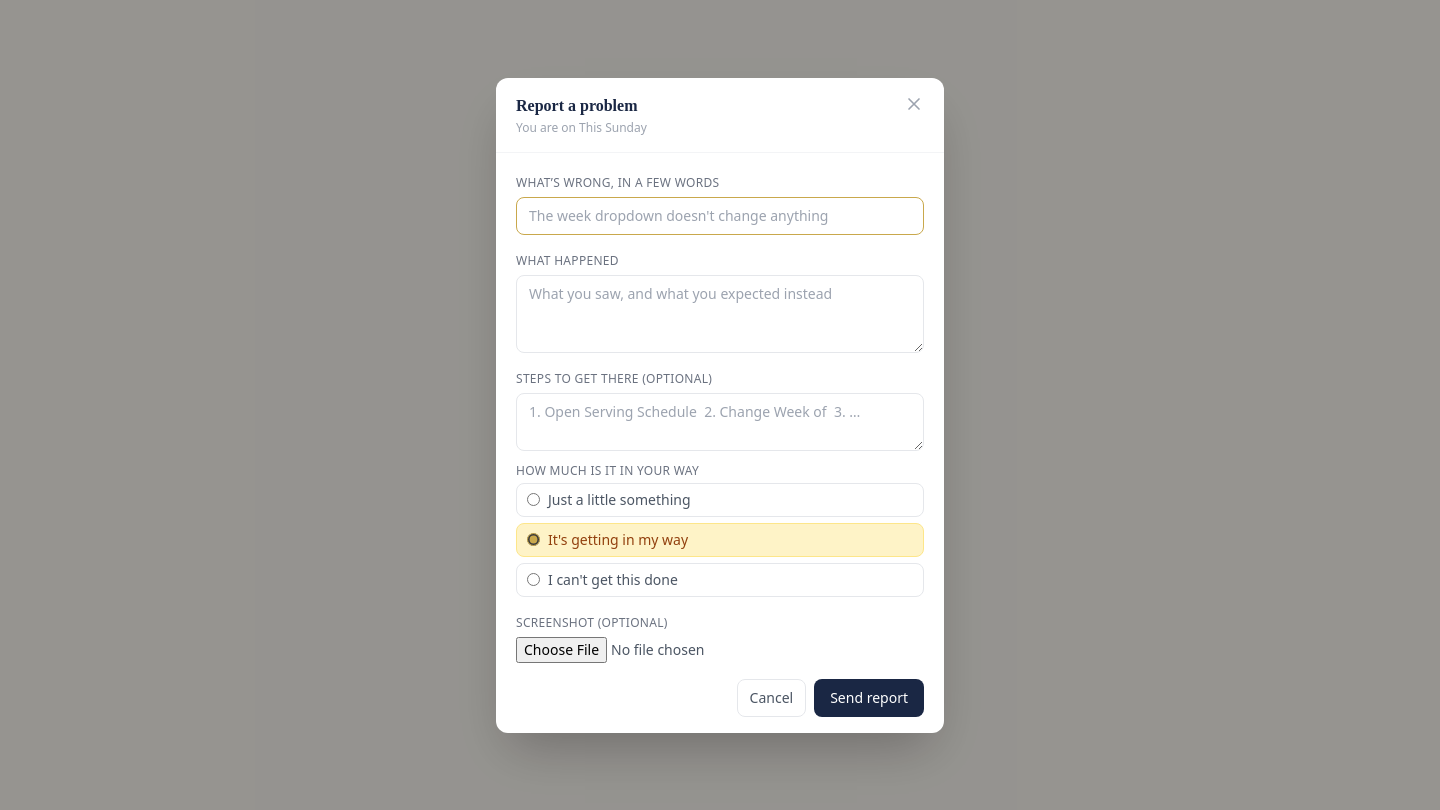
BugReportDialog › a title and a description are required before it will send
Click the button "Send report".
click(869, 698)  # box [814,678,924,716]
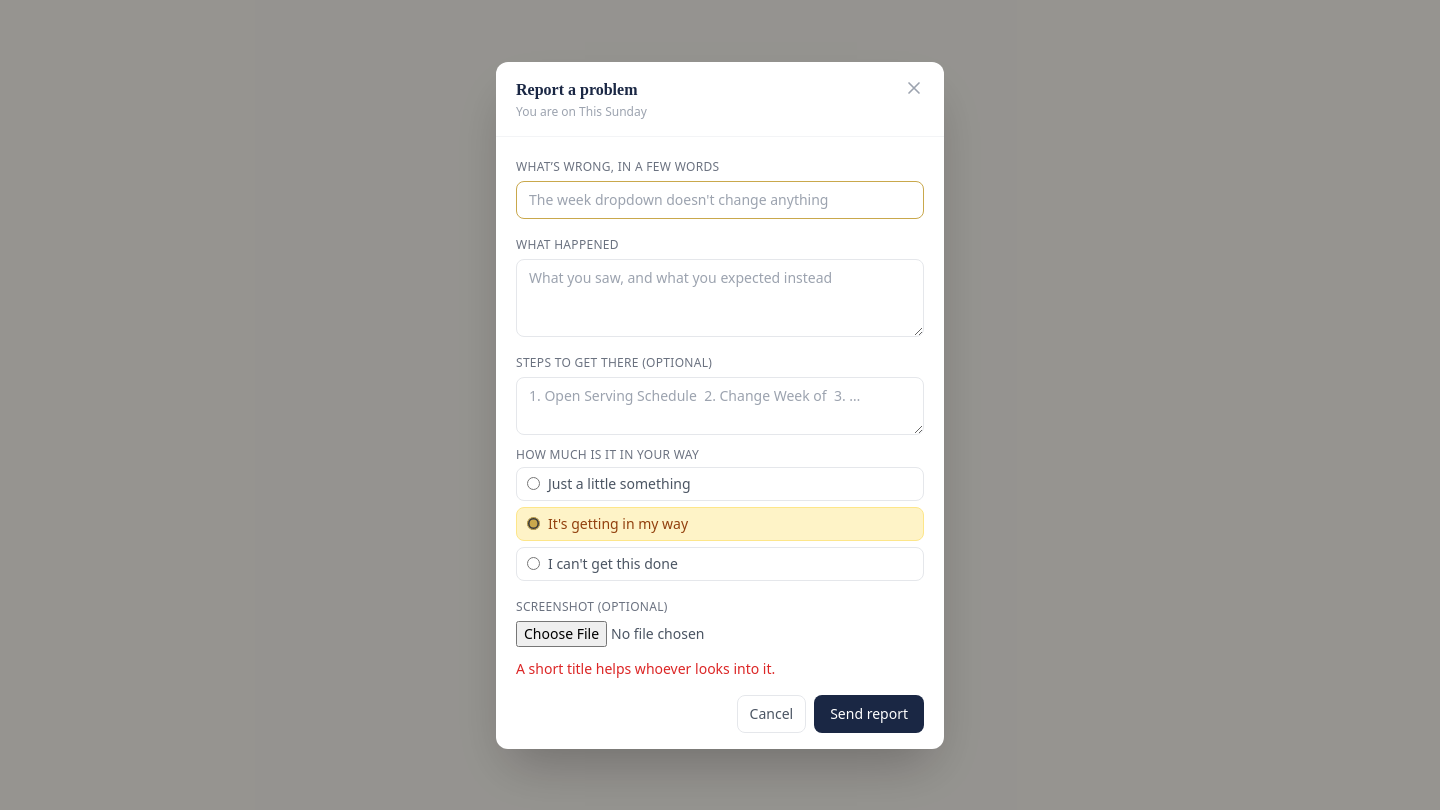
Now the text "A short title helps whoever looks into it." is shown, box [516,658,775,678]
Type "Something broke" into the field with placeholder "The week dropdown doesn't change anything".
click(720, 200); type("Something broke")  # box [516,180,924,218]
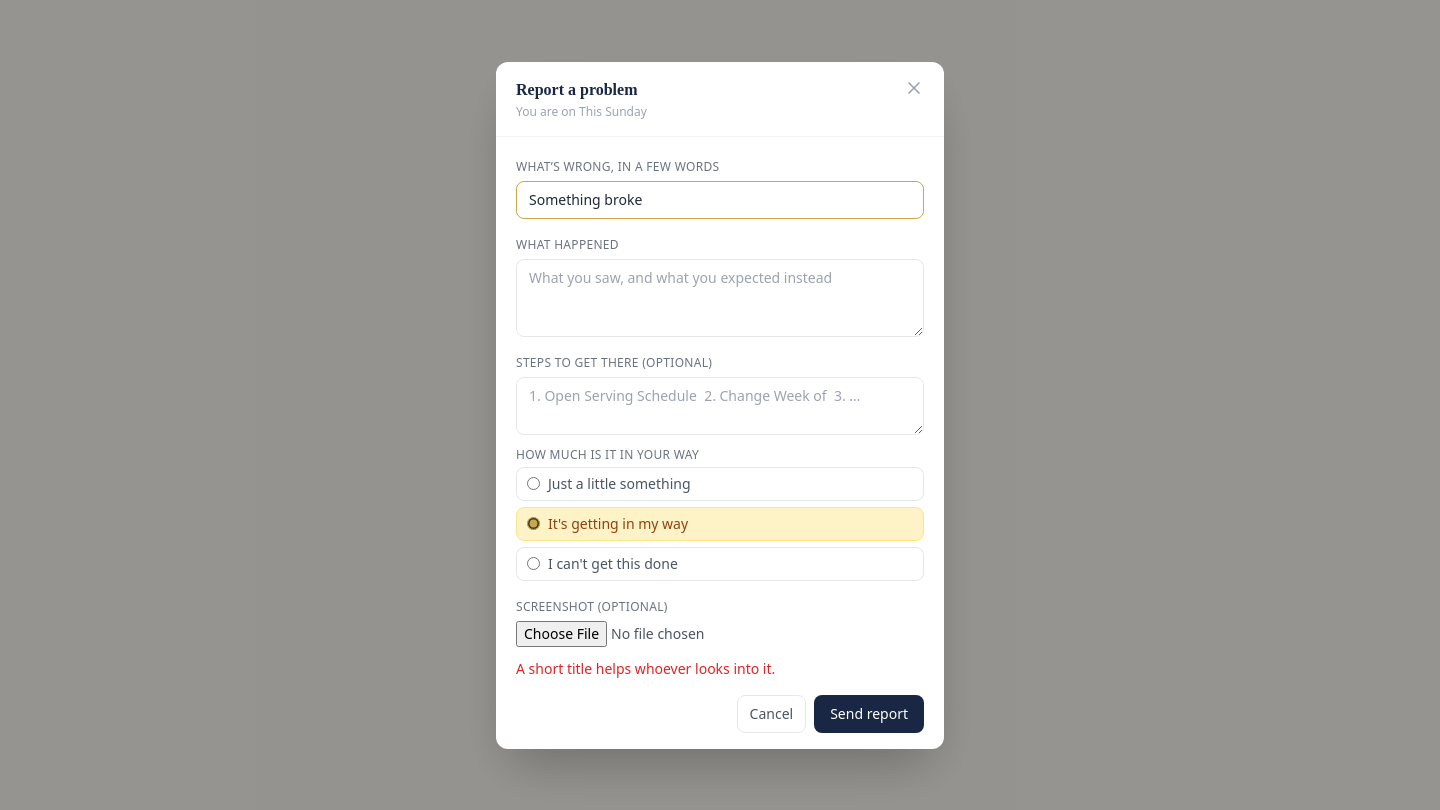
Click the button "Send report".
click(869, 714)  # box [814,694,924,732]
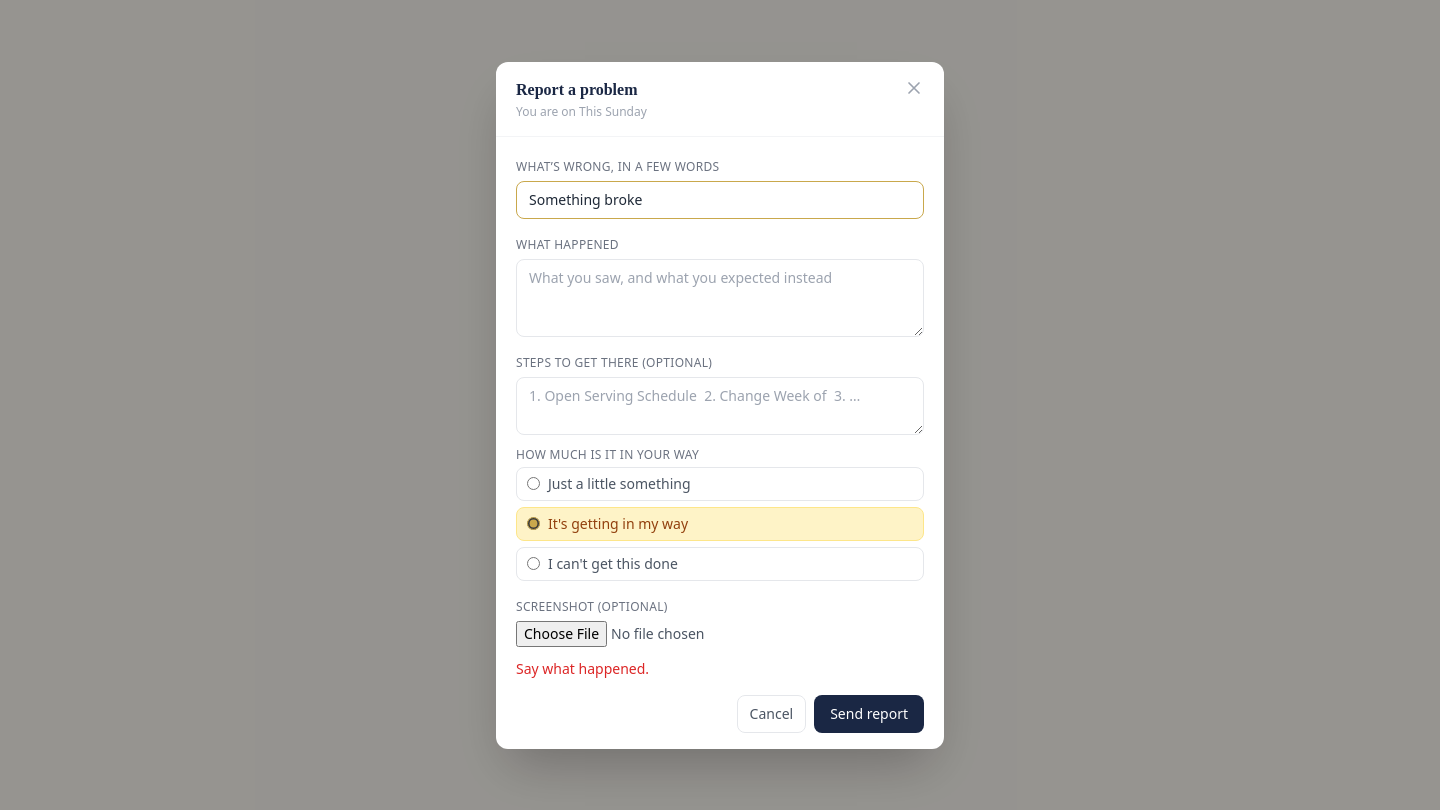
Now the text "Say what happened." is shown, box [516,658,649,678]
